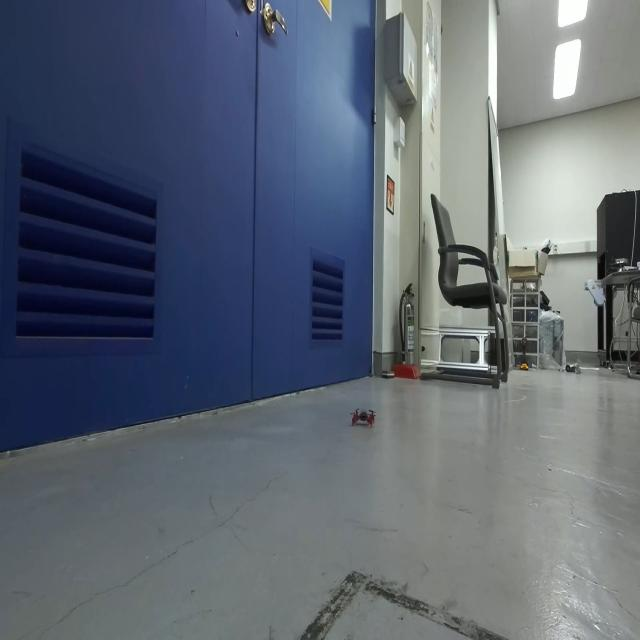crazyflie: (348, 403, 380, 431)
